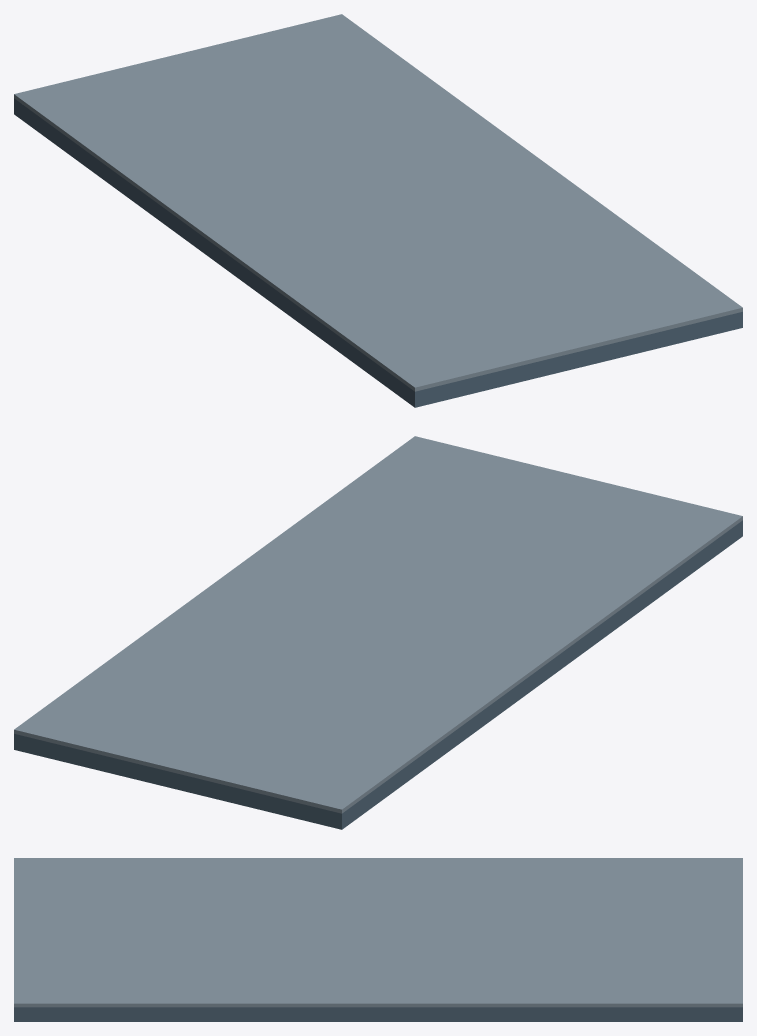
File: TS-632.00.000-29-plita-dielektricheskaya-360x170.glb
The picture shows the model from 3 angles, top to bottom: view 1: azimuth 30°, elevation 25°; view 2: azimuth 150°, elevation 25°; view 3: azimuth 270°, elevation 25°; orthographic projection. The views are drawn at different scales.
Parts seen in each view (by area): view 1: prokladka, plita; view 2: prokladka, plita; view 3: prokladka, plita.
Part boxes in pixels (left/top/right/bottom): prokladka: left=14, top=14, right=742, bottom=391; plita: left=14, top=98, right=742, bottom=407; prokladka: left=14, top=436, right=742, bottom=813; plita: left=14, top=520, right=742, bottom=829; prokladka: left=14, top=858, right=742, bottom=1007; plita: left=14, top=1007, right=742, bottom=1021.
Size of the model in its own units: 170 by 10 by 360.
